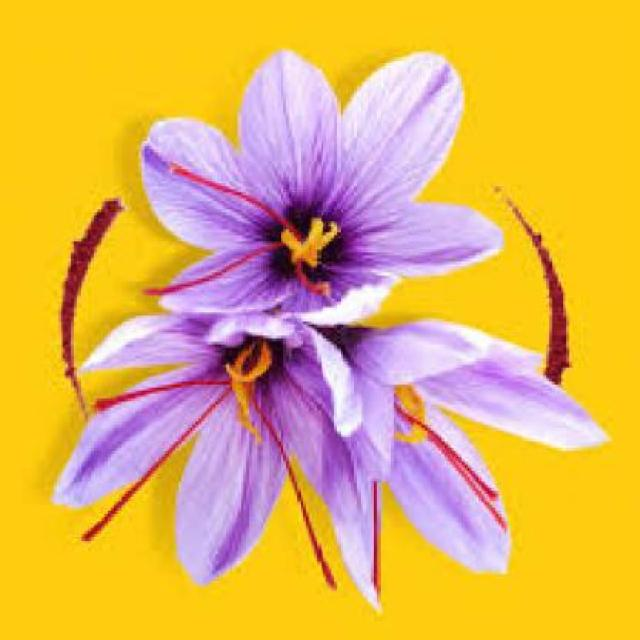Flower: (76, 315, 618, 602), (128, 47, 504, 327)
stigma: (88, 418, 204, 540), (267, 425, 338, 589), (420, 424, 508, 532), (140, 236, 275, 297), (170, 164, 286, 224), (87, 374, 230, 414), (368, 476, 386, 591)
